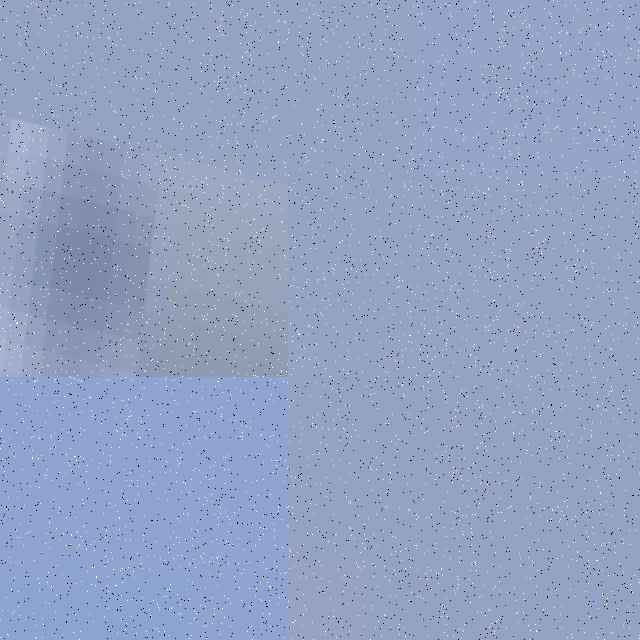drone: (0, 0, 288, 377)
